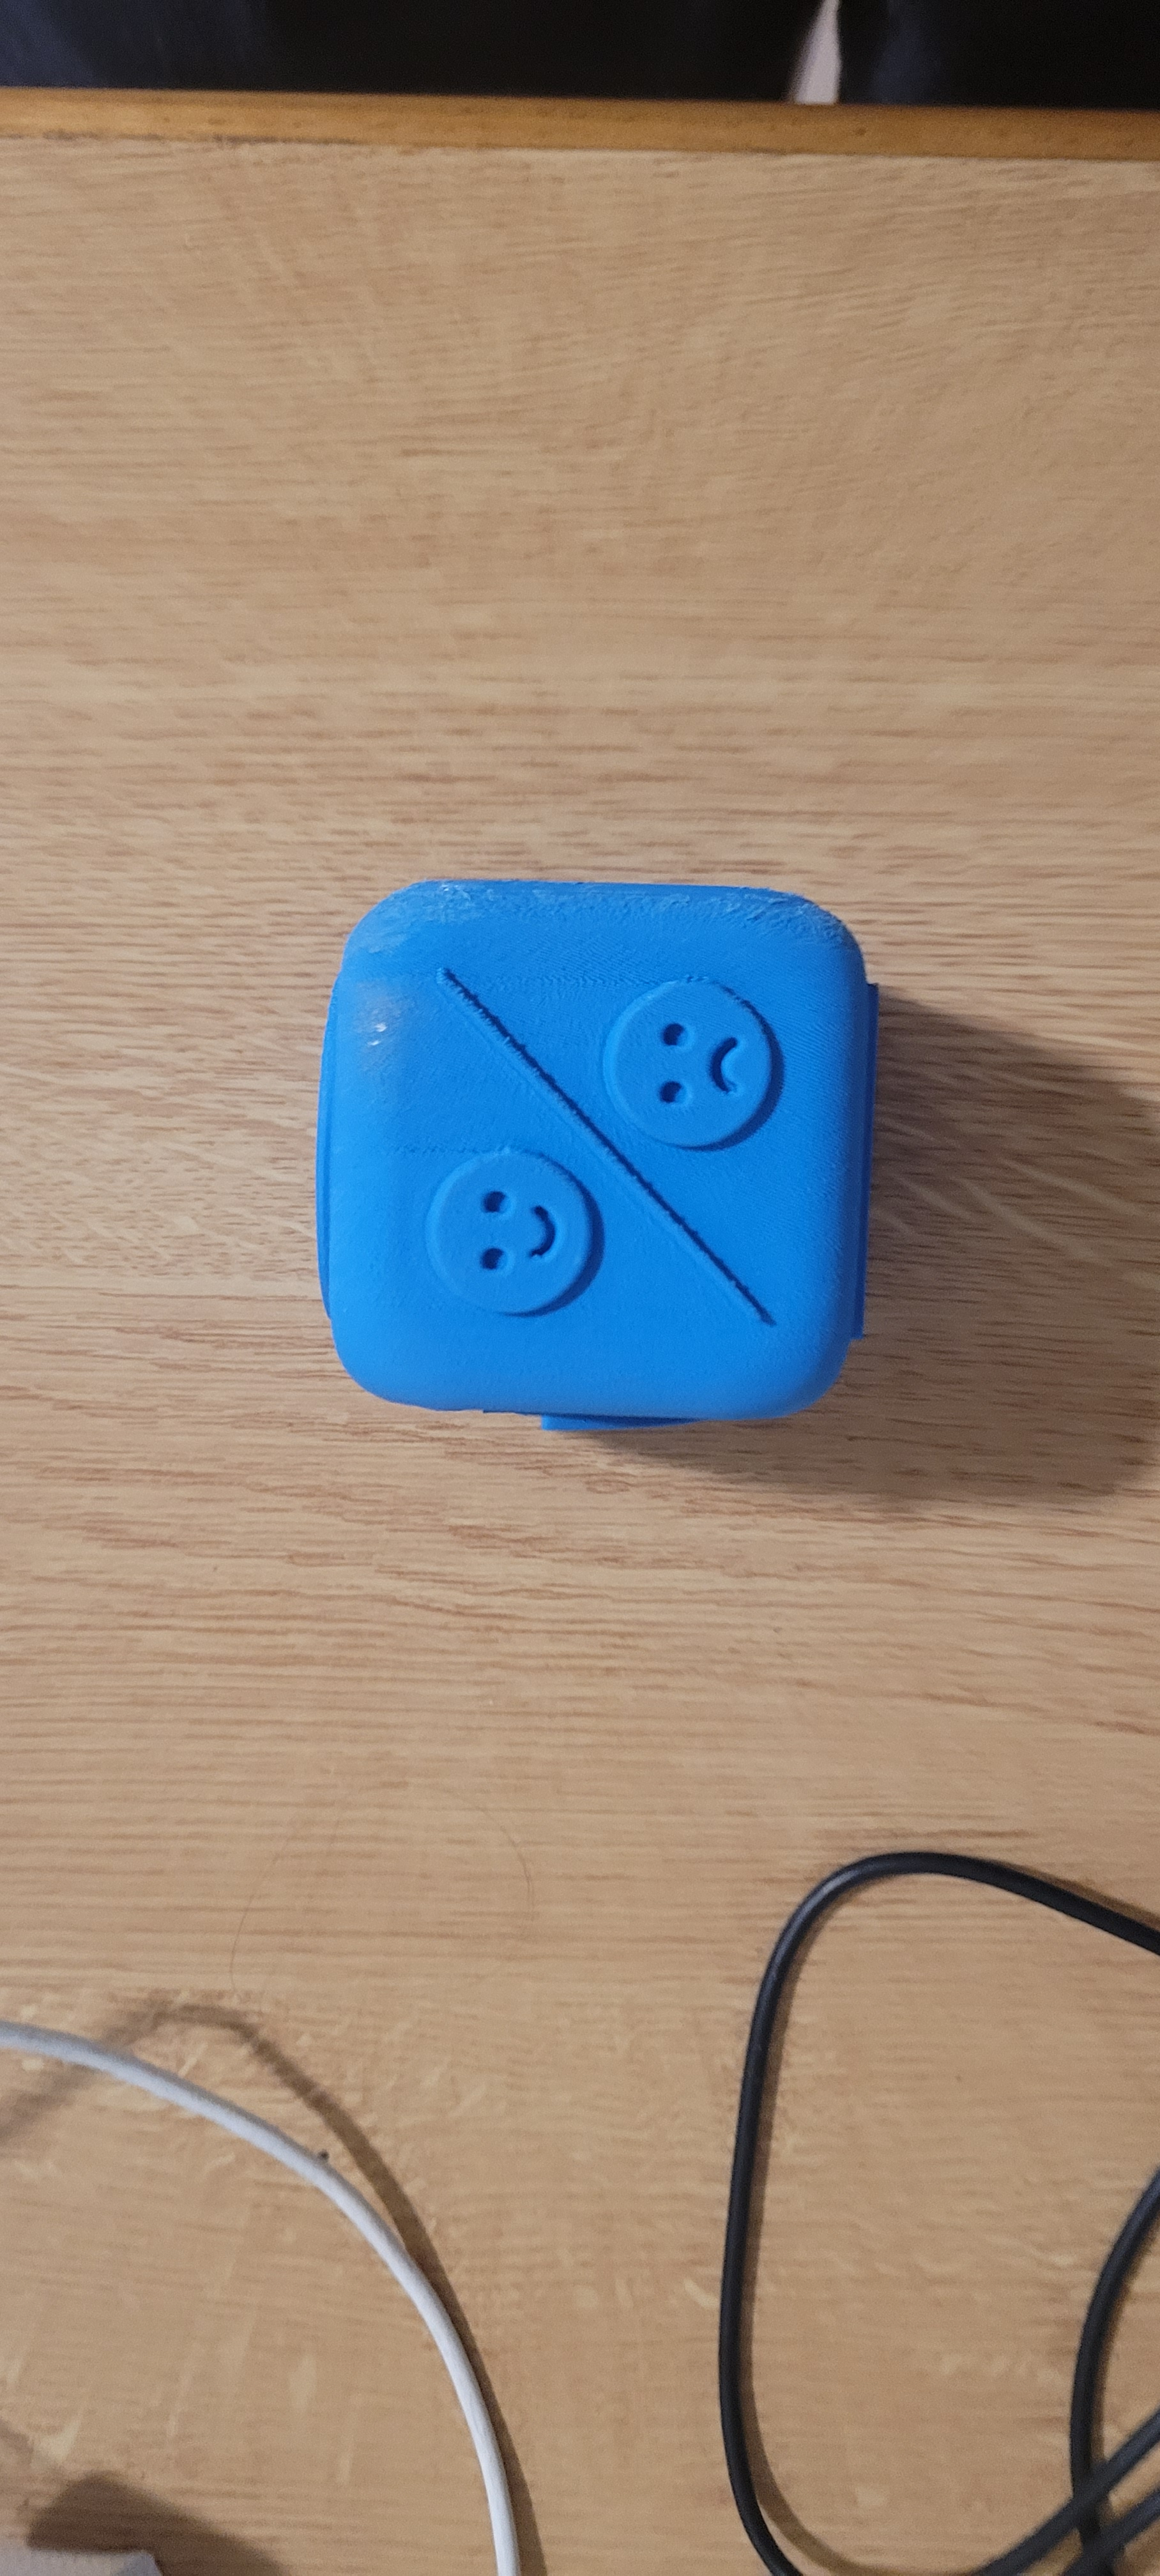Like/Dislike: (366, 930, 822, 1324)
